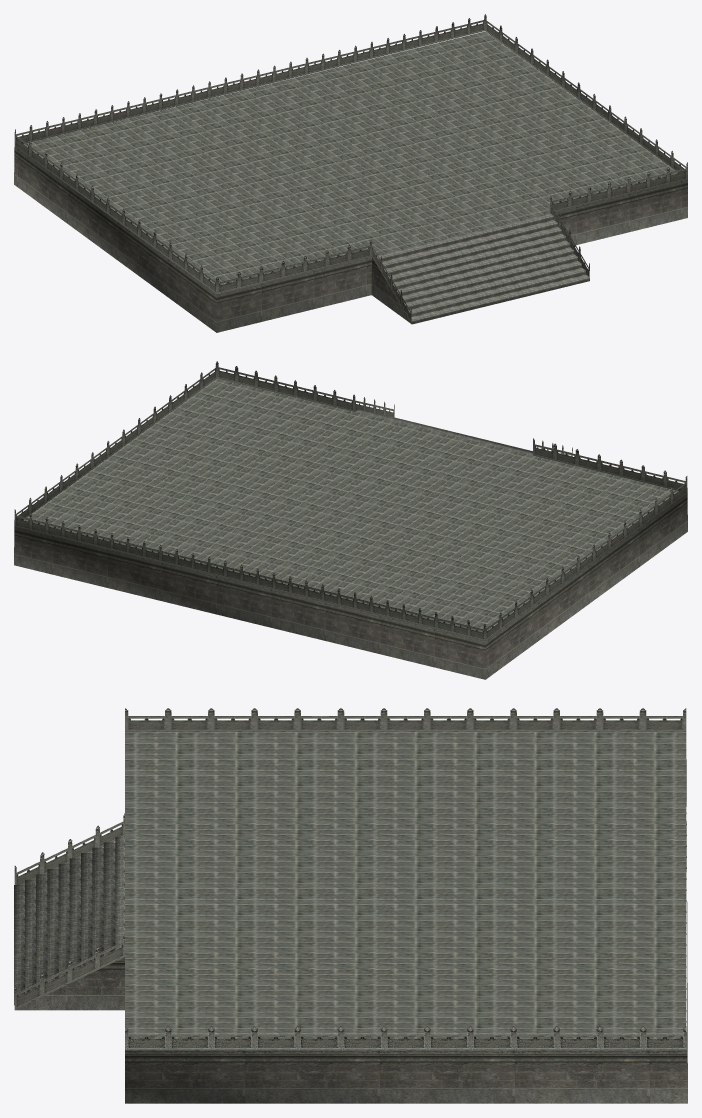
Rendered from cj_mili_weapstair.glb.
3 renders of one model, top to bottom at view 1: azimuth 30°, elevation 25°; view 2: azimuth 150°, elevation 25°; view 3: azimuth 270°, elevation 25°, orthographic. The views are drawn at different scales.
Parts seen in each view (by area): view 1: CJ_mili_weapstair04, CJ_mili_weapstair02, CJ_mili_weapstair03, CJ_mili_weapstair01; view 2: CJ_mili_weapstair04, CJ_mili_weapstair02, CJ_mili_weapstair03, CJ_mili_weapstair01; view 3: CJ_mili_weapstair04, CJ_mili_weapstair02, CJ_mili_weapstair03, CJ_mili_weapstair01.
Part boxes in pixels (left/top/right/bottom): CJ_mili_weapstair04: left=23, top=31, right=677, bottom=284; CJ_mili_weapstair02: left=14, top=146, right=687, bottom=332; CJ_mili_weapstair03: left=14, top=14, right=687, bottom=323; CJ_mili_weapstair01: left=374, top=213, right=589, bottom=324; CJ_mili_weapstair04: left=23, top=378, right=678, bottom=632; CJ_mili_weapstair02: left=14, top=493, right=687, bottom=679; CJ_mili_weapstair03: left=14, top=361, right=687, bottom=640; CJ_mili_weapstair01: left=355, top=409, right=532, bottom=455; CJ_mili_weapstair04: left=125, top=732, right=686, bottom=1038; CJ_mili_weapstair02: left=15, top=759, right=687, bottom=1103; CJ_mili_weapstair03: left=14, top=708, right=686, bottom=1050; CJ_mili_weapstair01: left=14, top=837, right=124, bottom=1005.
Bounding box in the file's own units: 38.53 × 4.36 × 34.42.
Materials: 4 (4 with a texture image).
